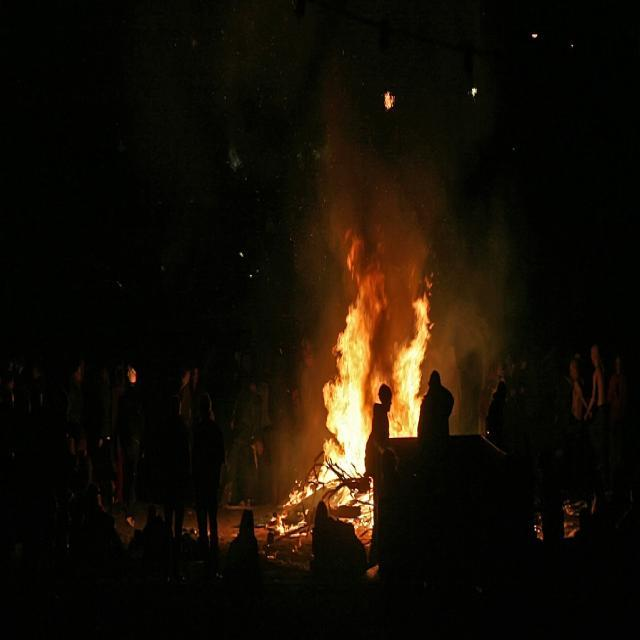Fire: (340, 402, 364, 472), (399, 361, 422, 433)
